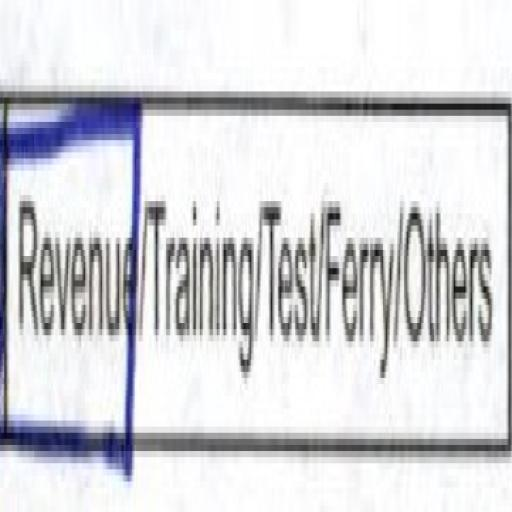check: (0, 73, 149, 488)
